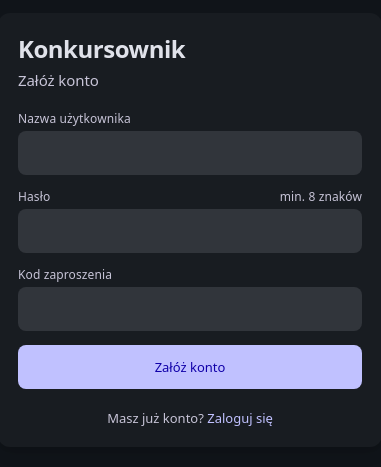
Test: RegisterPage › register sends userName and maps username errors
Check: the text "min. 8 znaków" is shown, box [280, 189, 362, 205]
Type "ania" into the field labelled "Nazwa użytkownika".
click(190, 153); type("ania")  # box [18, 131, 362, 175]
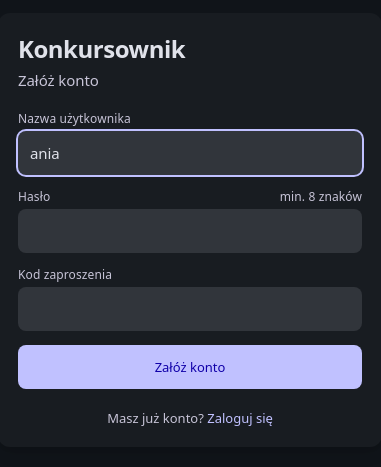
Type "haslo1234" into the password field labelled "Hasło".
click(190, 231); type("haslo1234")  # box [18, 209, 362, 253]
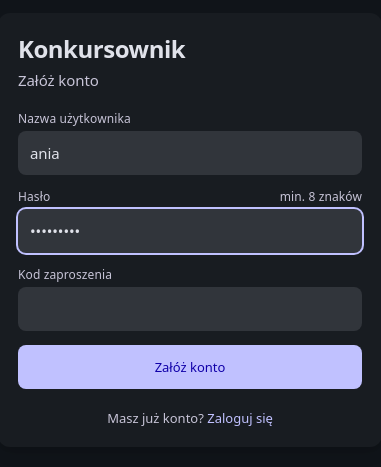
Type "KOD" into the field labelled "Kod zaproszenia".
click(190, 309); type("KOD")  # box [18, 287, 362, 331]
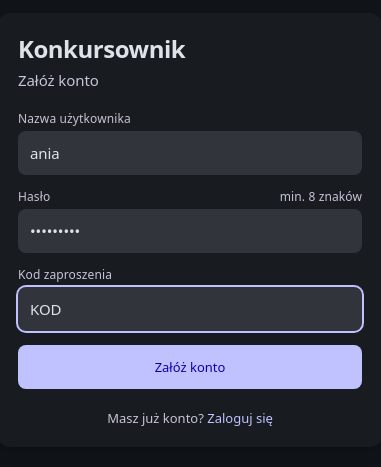
Click the button "Załóż konto".
click(190, 367)  # box [18, 345, 362, 389]
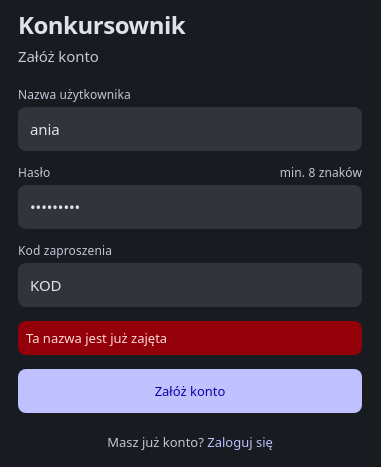
Check: the text "Ta nazwa jest już zajęta" is shown, box [18, 321, 362, 355]
